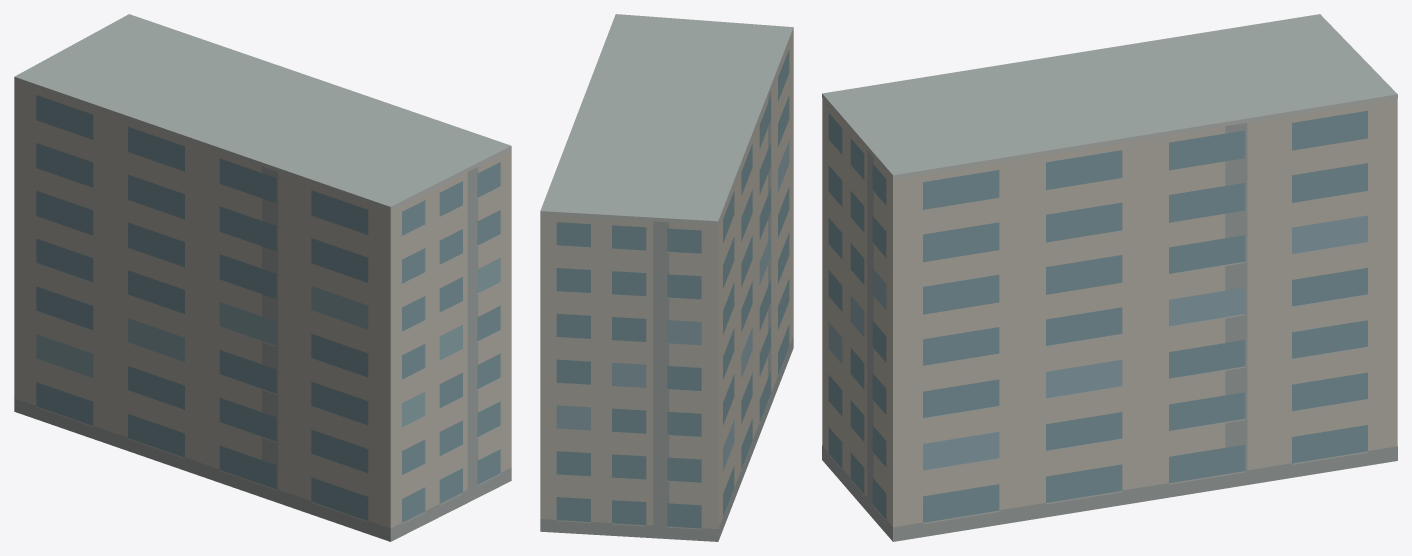
File: survey-upis-32946305.glb
3 views of the same model, side by side, from view 1: azimuth 30°, elevation 25°; view 2: azimuth 150°, elevation 25°; view 3: azimuth 270°, elevation 25° (orthographic). The views are drawn at different scales.
Visible parts, largest first — view 1: survey-upis-32946305.tmp; view 2: survey-upis-32946305.tmp; view 3: survey-upis-32946305.tmp.
Part boxes in pixels (left/top/right/bottom): survey-upis-32946305.tmp: left=14, top=14, right=511, bottom=541; survey-upis-32946305.tmp: left=540, top=14, right=793, bottom=541; survey-upis-32946305.tmp: left=822, top=14, right=1397, bottom=541.
Size of the model in its own units: 19.56 by 20.7 by 29.47.
